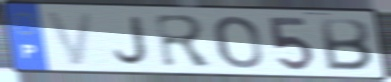5: (265, 15, 318, 72)
B: (318, 16, 375, 73)
J: (112, 14, 150, 66)
O: (212, 14, 266, 71)
R: (151, 13, 216, 70)
V: (43, 10, 97, 68)
